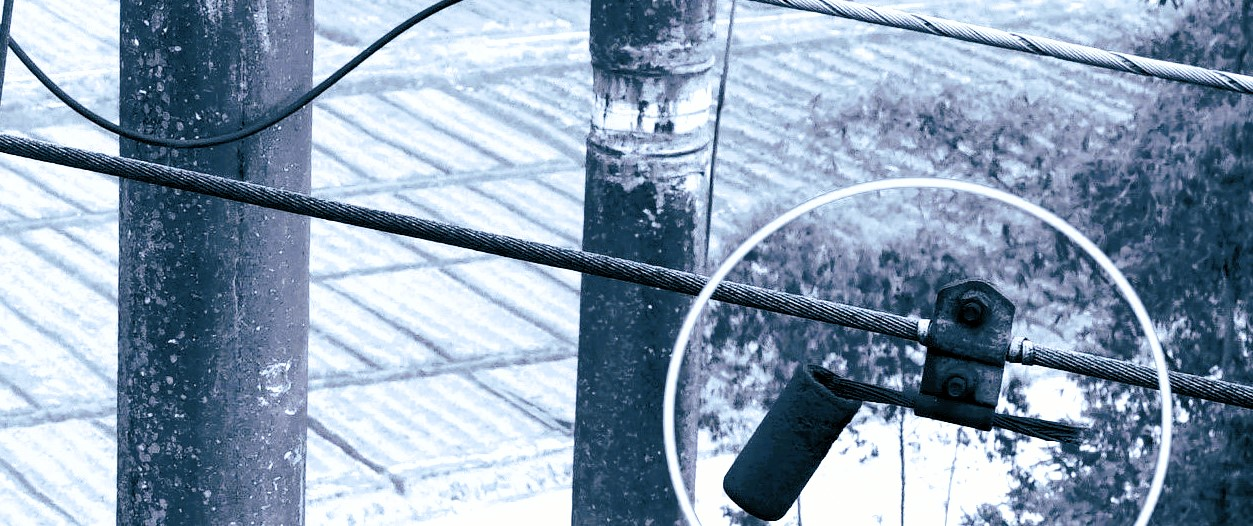Damage of shockproof hammer: (720, 254, 1108, 526)
